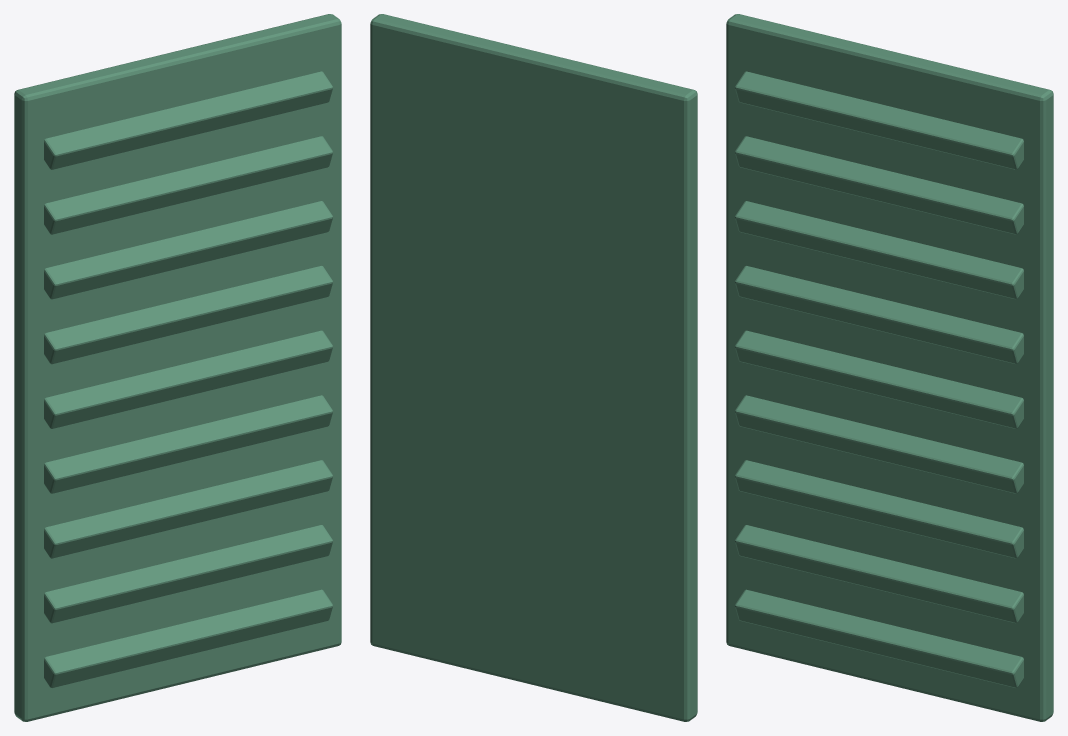
Rendered from shutter.glb.
3 renders of one model, left to right at view 1: azimuth 30°, elevation 25°; view 2: azimuth 150°, elevation 25°; view 3: azimuth 330°, elevation 25°, orthographic.
Visible parts, largest first — view 1: shutter; view 2: shutter; view 3: shutter.
Boxes of the visible parts, box(x1,y1,x2,y2) form: shutter: box(14, 14, 341, 721); shutter: box(370, 14, 697, 721); shutter: box(726, 14, 1053, 721).
Size of the model in its own units: 0.8 by 1.5 by 0.0951.
